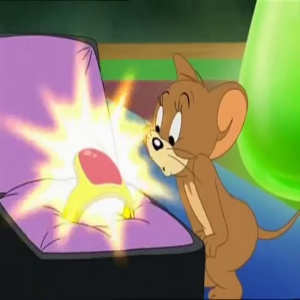Jerry: (146, 54, 248, 183)
